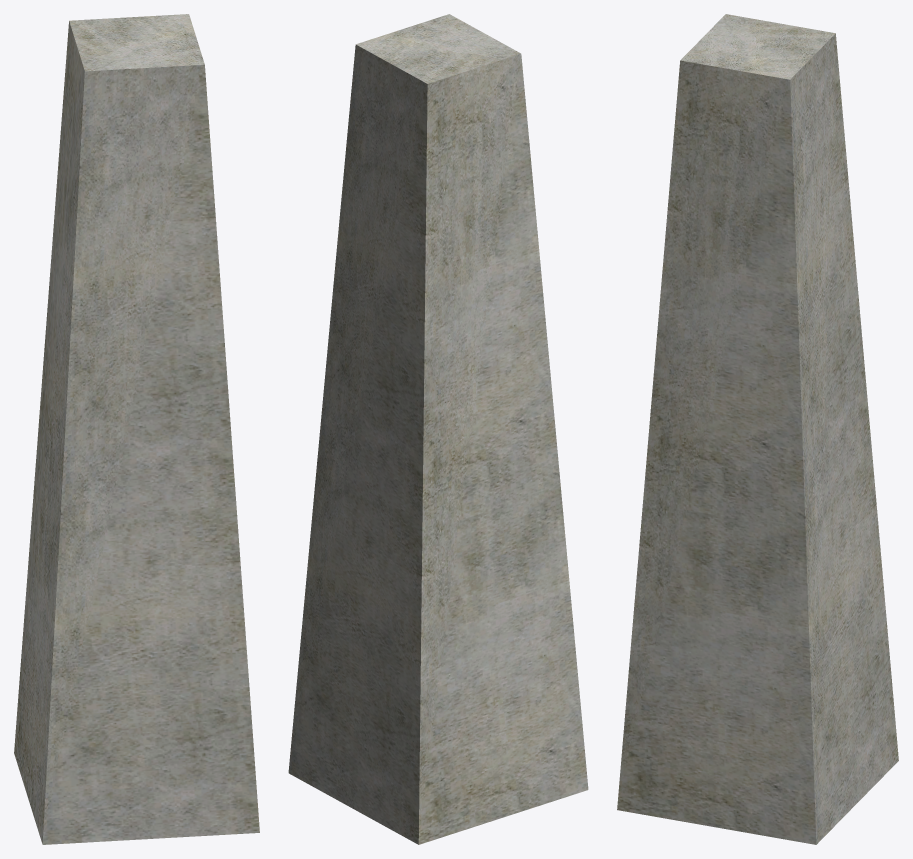
The model's file is mun_all_military_column_weak_rebl_s01_l2.fbx.
3 views of the same model, side by side, from view 1: azimuth 30°, elevation 25°; view 2: azimuth 150°, elevation 25°; view 3: azimuth 270°, elevation 25° (orthographic). The views are drawn at different scales.
Visible parts, largest first — view 1: mesh_node; view 2: mesh_node; view 3: mesh_node.
Boxes of the visible parts, box(x1,y1,x2,y2) form: mesh_node: box(14, 14, 259, 844); mesh_node: box(288, 14, 588, 844); mesh_node: box(617, 14, 898, 844).
Size of the model in its own units: 2.16 by 6.25 by 2.16.
